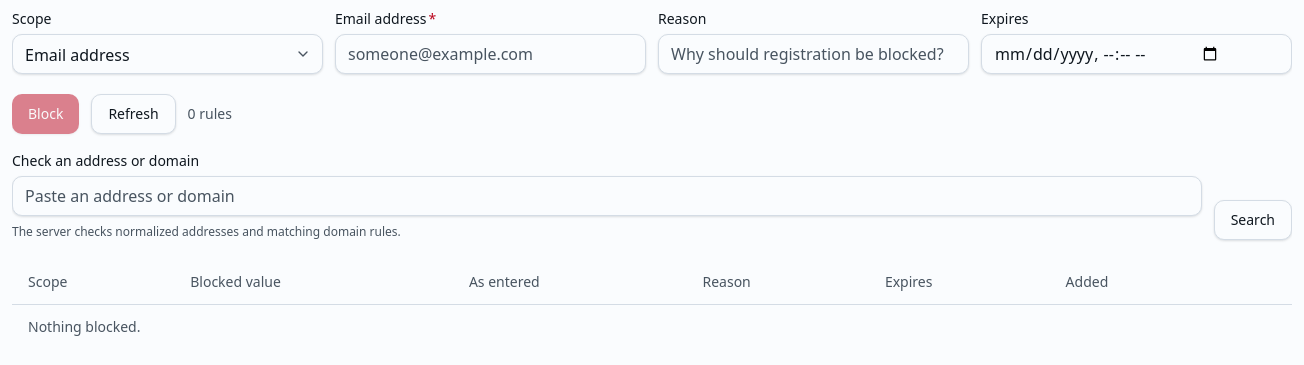
Scenario: EmailBlocklistPanel › says an unmatched address can register, rather than showing an empty table
This screenshot has width=1304, height=365.
In the field named "Search rules": coordinates (607, 196) top-left (12, 176), bottom-right (1202, 216), type "innocent@corp.example"
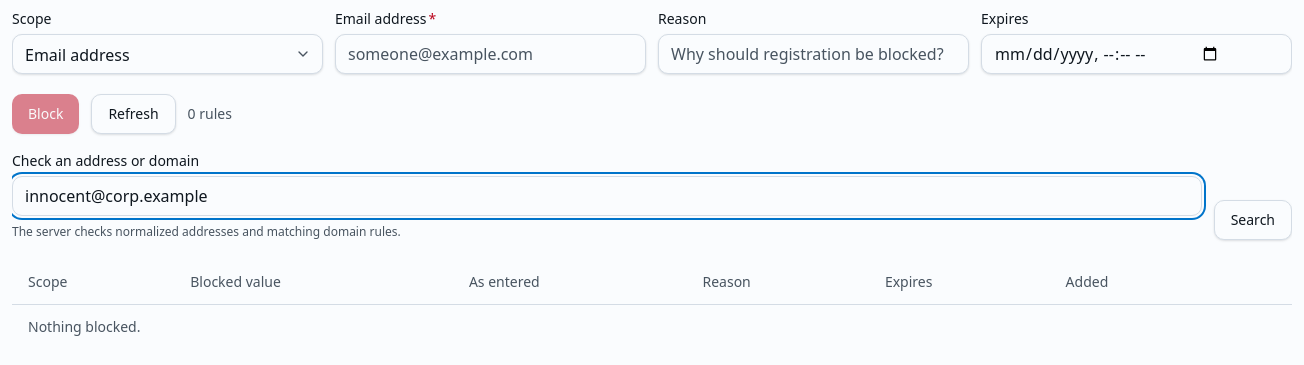
Click the button "Search": coordinates (1253, 220) top-left (1214, 200), bottom-right (1292, 240)
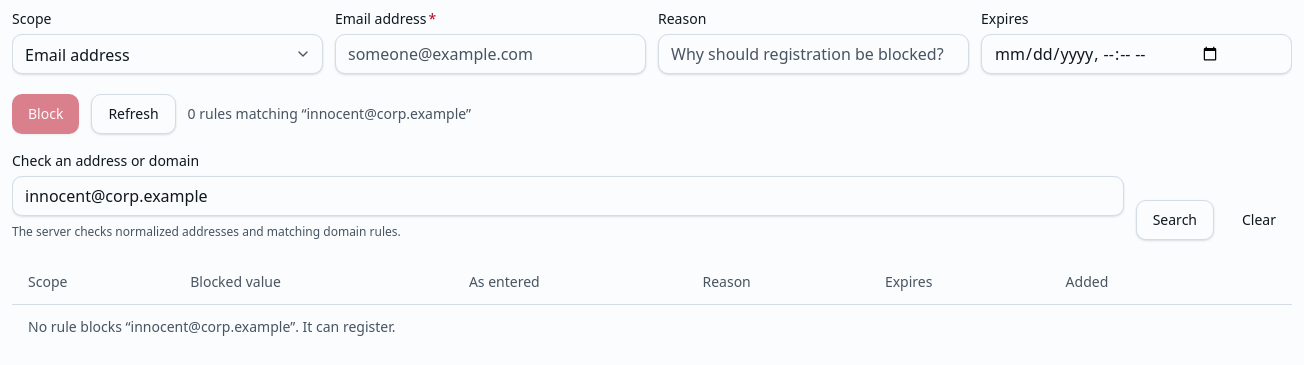
Check: the text "No rule blocks “innocent@corp.example”. It can register." is shown, box top-left (12, 304), bottom-right (1292, 348)
